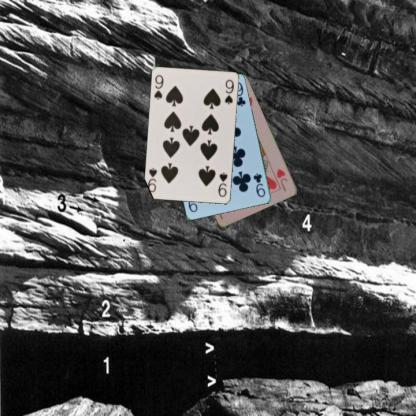9c: (251, 170, 267, 199)
9s: (215, 170, 229, 198), (152, 73, 165, 101)
Jh: (274, 166, 289, 193)
